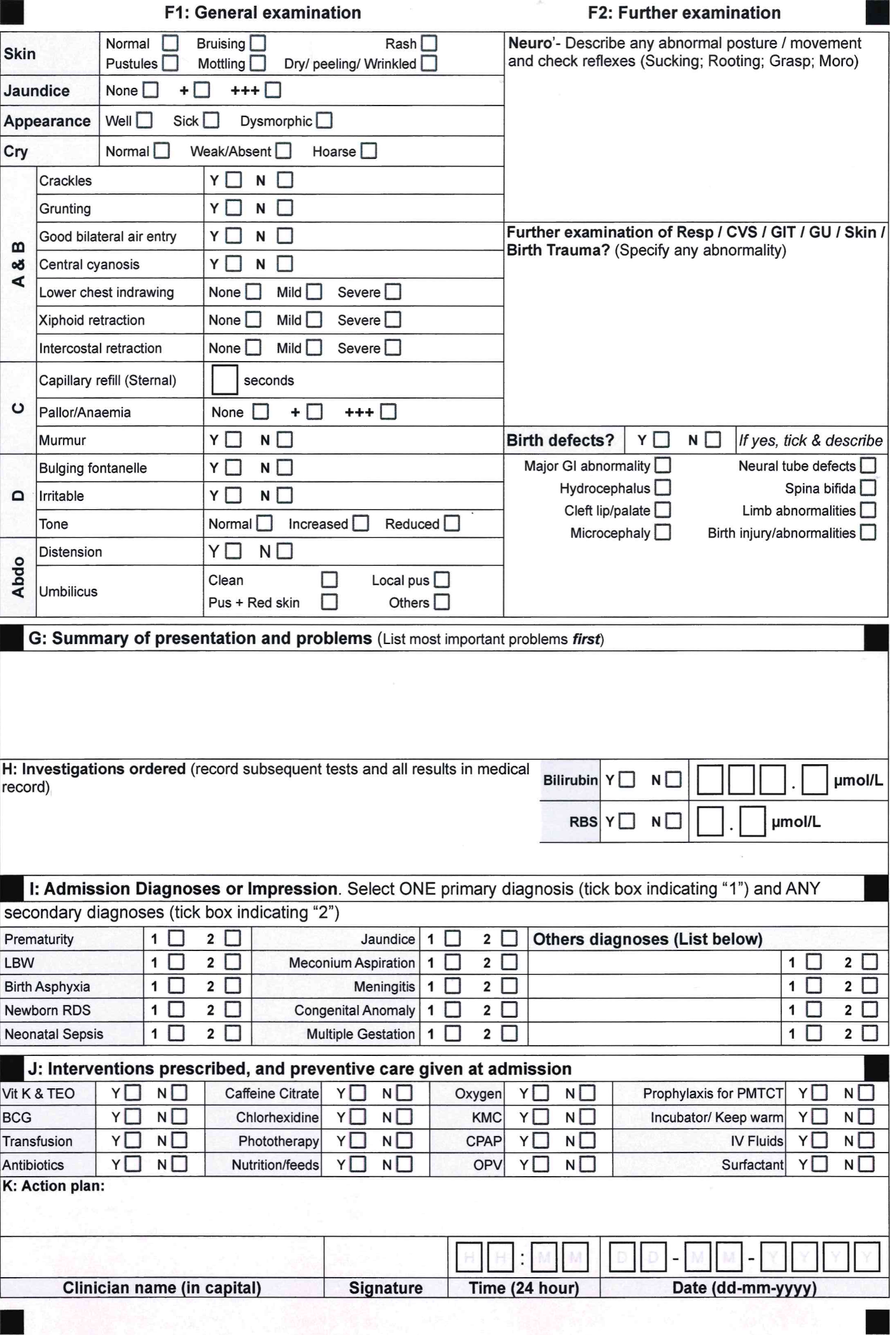mask: (3, 1238, 446, 1275)
